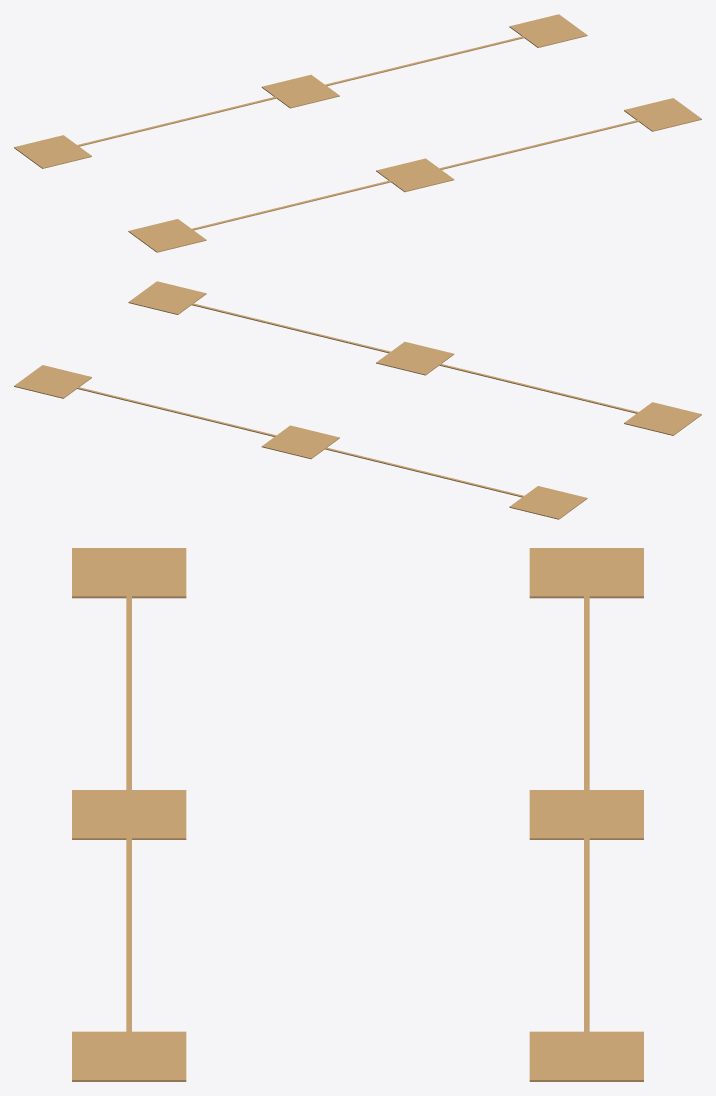
The model's file is board.glb.
3 renders of one model, top to bottom at view 1: azimuth 30°, elevation 25°; view 2: azimuth 150°, elevation 25°; view 3: azimuth 270°, elevation 25°, orthographic. The views are drawn at different scales.
Parts seen in each view (by area): view 1: Unified_Net_1_Island_0, Unified_Net_2_Island_1; view 2: Unified_Net_1_Island_0, Unified_Net_2_Island_1; view 3: Unified_Net_1_Island_0, Unified_Net_2_Island_1.
Part boxes in pixels (box(x1,y1,x2,y2)): Unified_Net_1_Island_0: box(128, 98, 701, 252); Unified_Net_2_Island_1: box(14, 14, 587, 168); Unified_Net_1_Island_0: box(128, 281, 701, 435); Unified_Net_2_Island_1: box(14, 365, 587, 519); Unified_Net_1_Island_0: box(72, 548, 186, 1081); Unified_Net_2_Island_1: box(529, 548, 643, 1081).
Bounding box in the file's own units: 0.022 × 3.5e-05 × 0.01.
